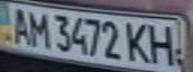2: (100, 18, 124, 61)
3: (48, 12, 72, 52)
4: (66, 15, 87, 55)
7: (84, 16, 106, 57)
A: (3, 4, 36, 45)
H: (145, 20, 181, 66)
K: (121, 19, 154, 64)
M: (21, 8, 51, 48)
